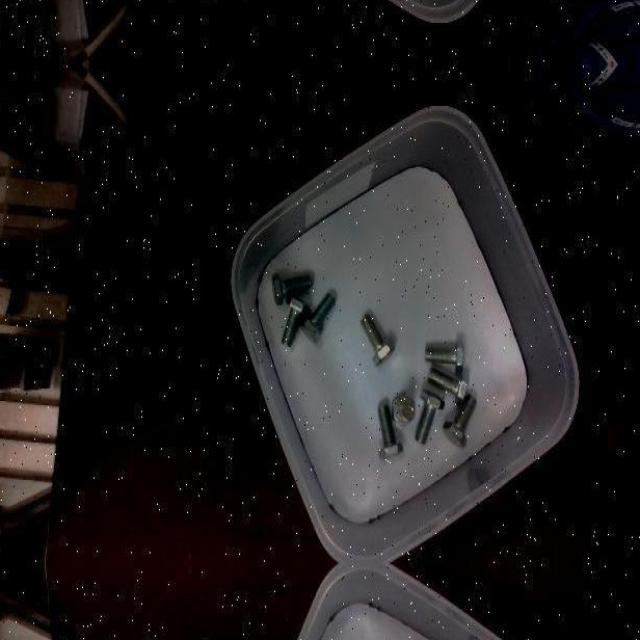screw: (298, 291, 336, 342), (442, 394, 477, 448), (359, 314, 395, 366), (427, 367, 469, 407), (414, 389, 444, 444), (280, 293, 310, 347), (376, 403, 403, 457), (272, 272, 312, 306), (424, 341, 463, 374), (392, 392, 414, 426)
